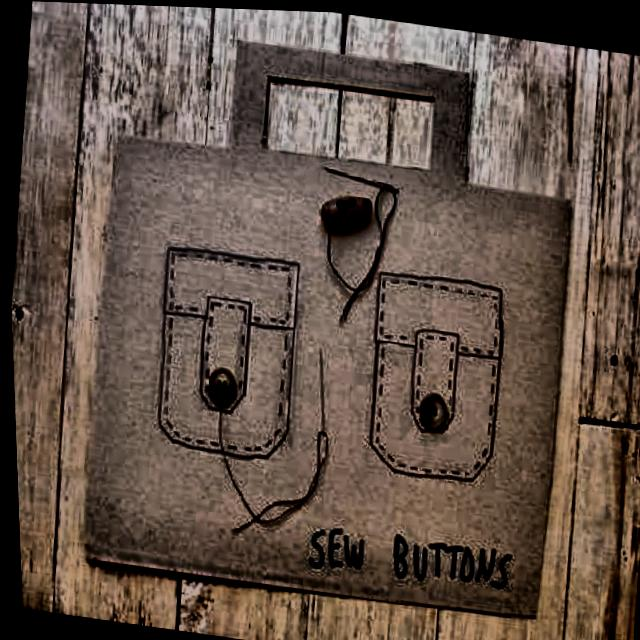Cardbox: (44, 2, 599, 639)
